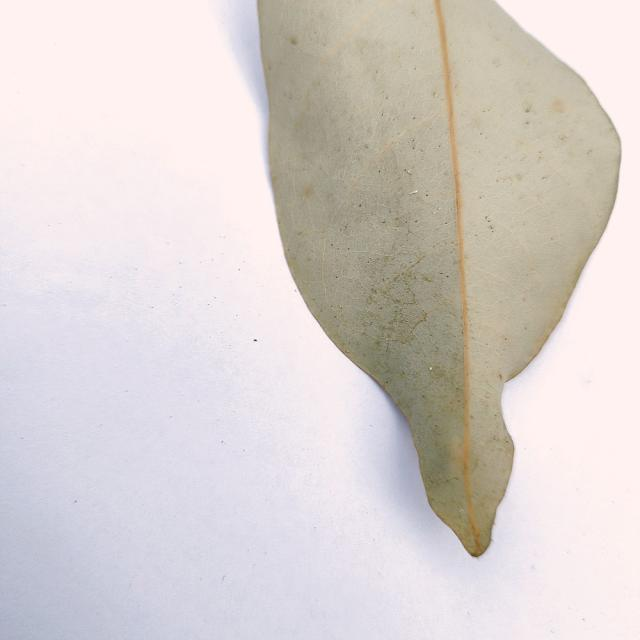Dry_Leaf-Lychee: (255, 0, 623, 560)
